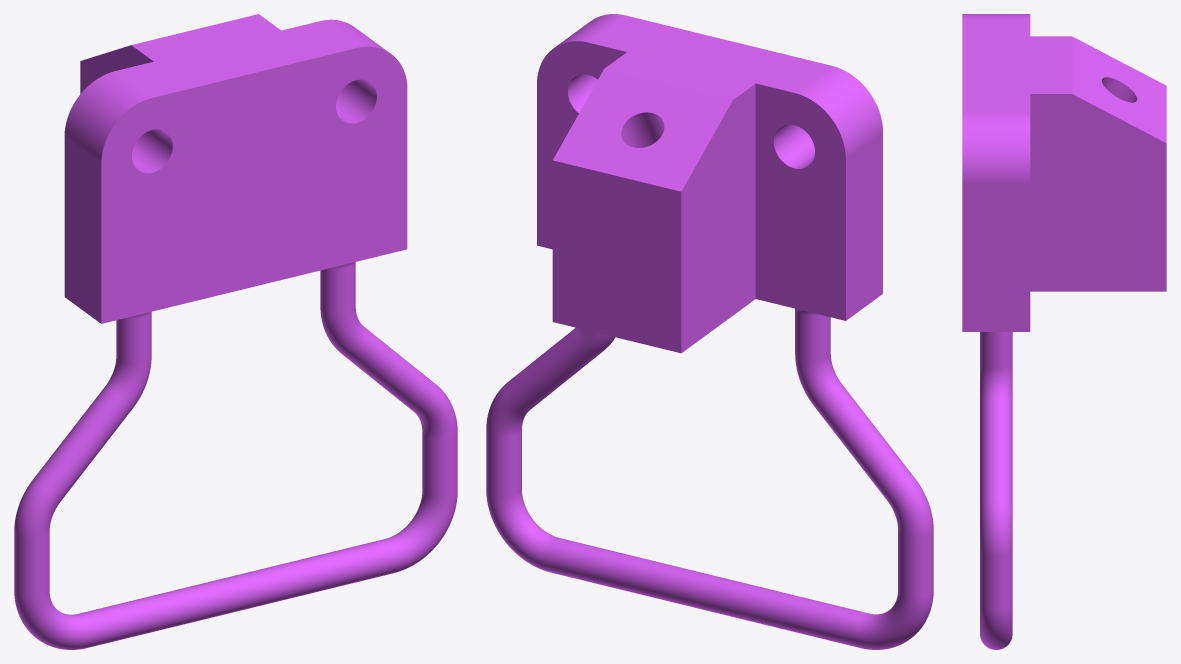
3 renders of one model, left to right at view 1: azimuth 30°, elevation 25°; view 2: azimuth 150°, elevation 25°; view 3: azimuth 270°, elevation 25°, orthographic. The views are drawn at different scales.
Visible parts, largest first — view 1: 圆角1; view 2: 圆角1; view 3: 圆角1.
Part boxes in pixels (x1,y1,x2,y2): 圆角1: [14, 14, 457, 649]; 圆角1: [486, 14, 933, 649]; 圆角1: [962, 14, 1166, 649].
Bounding box in the file's own units: 6.77 × 8.11 × 2.95.
